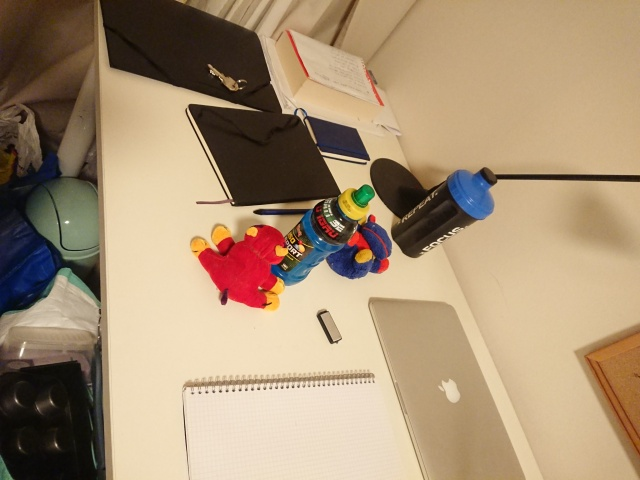Vindi Iso Sport Forest Strawberries 500mL: (263, 181, 376, 287)
